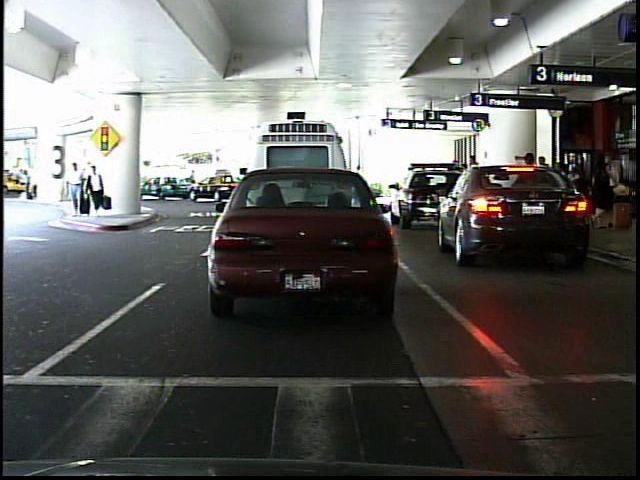person: (86, 160, 109, 221), (65, 157, 87, 218), (348, 158, 369, 204), (23, 166, 38, 204), (184, 166, 203, 195)
